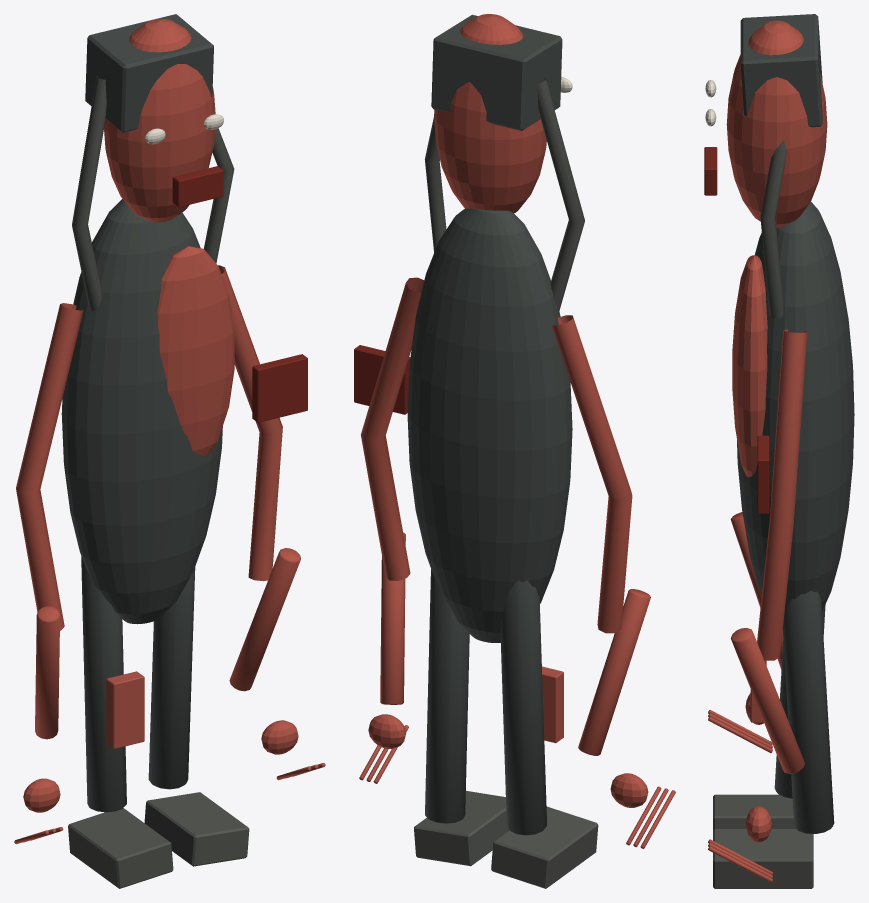
File: dz_enemy_runner_female_A.glb
3 views of the same model, side by side, from view 1: azimuth 30°, elevation 25°; view 2: azimuth 150°, elevation 25°; view 3: azimuth 270°, elevation 25° (orthographic).
Visible parts, largest first — view 1: dz_torso_core, dz_head_forward, dz_chest_infected_growth, dz_limb_arm_L, dz_limb_leg_R, dz_limb_leg_L, dz_low_hood_fast, dz_foot_drag_L, dz_limb_arm_R, dz_foot_drag_R, dz_hair_clump_left, dz_limb_forearm_R (+7 smaller); view 2: dz_torso_core, dz_head_forward, dz_limb_leg_L, dz_low_hood_fast, dz_limb_leg_R, dz_limb_arm_L, dz_limb_arm_R, dz_foot_drag_L, dz_foot_drag_R, dz_limb_forearm_L, dz_hair_clump_left, dz_limb_forearm_R (+5 smaller); view 3: dz_torso_core, dz_head_forward, dz_limb_leg_R, dz_limb_arm_R, dz_chest_infected_growth, dz_low_hood_fast, dz_foot_drag_R, dz_limb_forearm_R, dz_hair_clump_right, dz_foot_drag_L, dz_red_sprint_armband, dz_limb_leg_L (+5 smaller).
Part boxes in pixels (left/top/right/bottom): dz_torso_core: left=61, top=199, right=222, bottom=624; dz_head_forward: left=104, top=18, right=215, bottom=222; dz_chest_infected_growth: left=157, top=246, right=234, bottom=456; dz_limb_arm_L: left=16, top=303, right=83, bottom=630; dz_limb_leg_R: left=148, top=567, right=195, bottom=789; dz_limb_leg_L: left=81, top=556, right=126, bottom=812; dz_low_hood_fast: left=85, top=14, right=213, bottom=132; dz_foot_drag_L: left=68, top=808, right=173, bottom=888; dz_limb_arm_R: left=218, top=265, right=282, bottom=581; dz_foot_drag_R: left=144, top=792, right=249, bottom=866; dz_hair_clump_left: left=72, top=76, right=106, bottom=311; dz_limb_forearm_R: left=229, top=548, right=300, bottom=691; dz_torso_core: left=407, top=208, right=572, bottom=642; dz_head_forward: left=434, top=14, right=546, bottom=213; dz_limb_leg_L: left=500, top=580, right=546, bottom=835; dz_low_hood_fast: left=431, top=14, right=562, bottom=130; dz_limb_leg_R: left=425, top=569, right=469, bottom=823; dz_limb_arm_L: left=551, top=315, right=632, bottom=633; dz_limb_arm_R: left=361, top=277, right=424, bottom=580; dz_foot_drag_L: left=491, top=806, right=598, bottom=888; dz_foot_drag_R: left=414, top=791, right=508, bottom=866; dz_limb_forearm_L: left=578, top=589, right=650, bottom=755; dz_hair_clump_left: left=537, top=77, right=584, bottom=311; dz_limb_forearm_R: left=380, top=532, right=405, bottom=704; dz_torso_core: left=737, top=201, right=854, bottom=630; dz_head_forward: left=726, top=20, right=827, bottom=227; dz_limb_leg_R: left=783, top=590, right=834, bottom=833; dz_limb_arm_R: left=757, top=329, right=807, bottom=660; dz_chest_infected_growth: left=732, top=255, right=767, bottom=477; dz_low_hood_fast: left=740, top=14, right=822, bottom=127; dz_foot_drag_R: left=713, top=829, right=813, bottom=888; dz_limb_forearm_R: left=730, top=628, right=804, bottom=773; dz_hair_clump_right: left=760, top=140, right=786, bottom=318; dz_foot_drag_L: left=713, top=794, right=795, bottom=829; dz_red_sprint_armband: left=757, top=435, right=769, bottom=513; dz_limb_leg_L: left=774, top=604, right=825, bottom=798.
Size of what is drawn, in the model's own units: 0.7347 by 2.02 by 0.3286.
